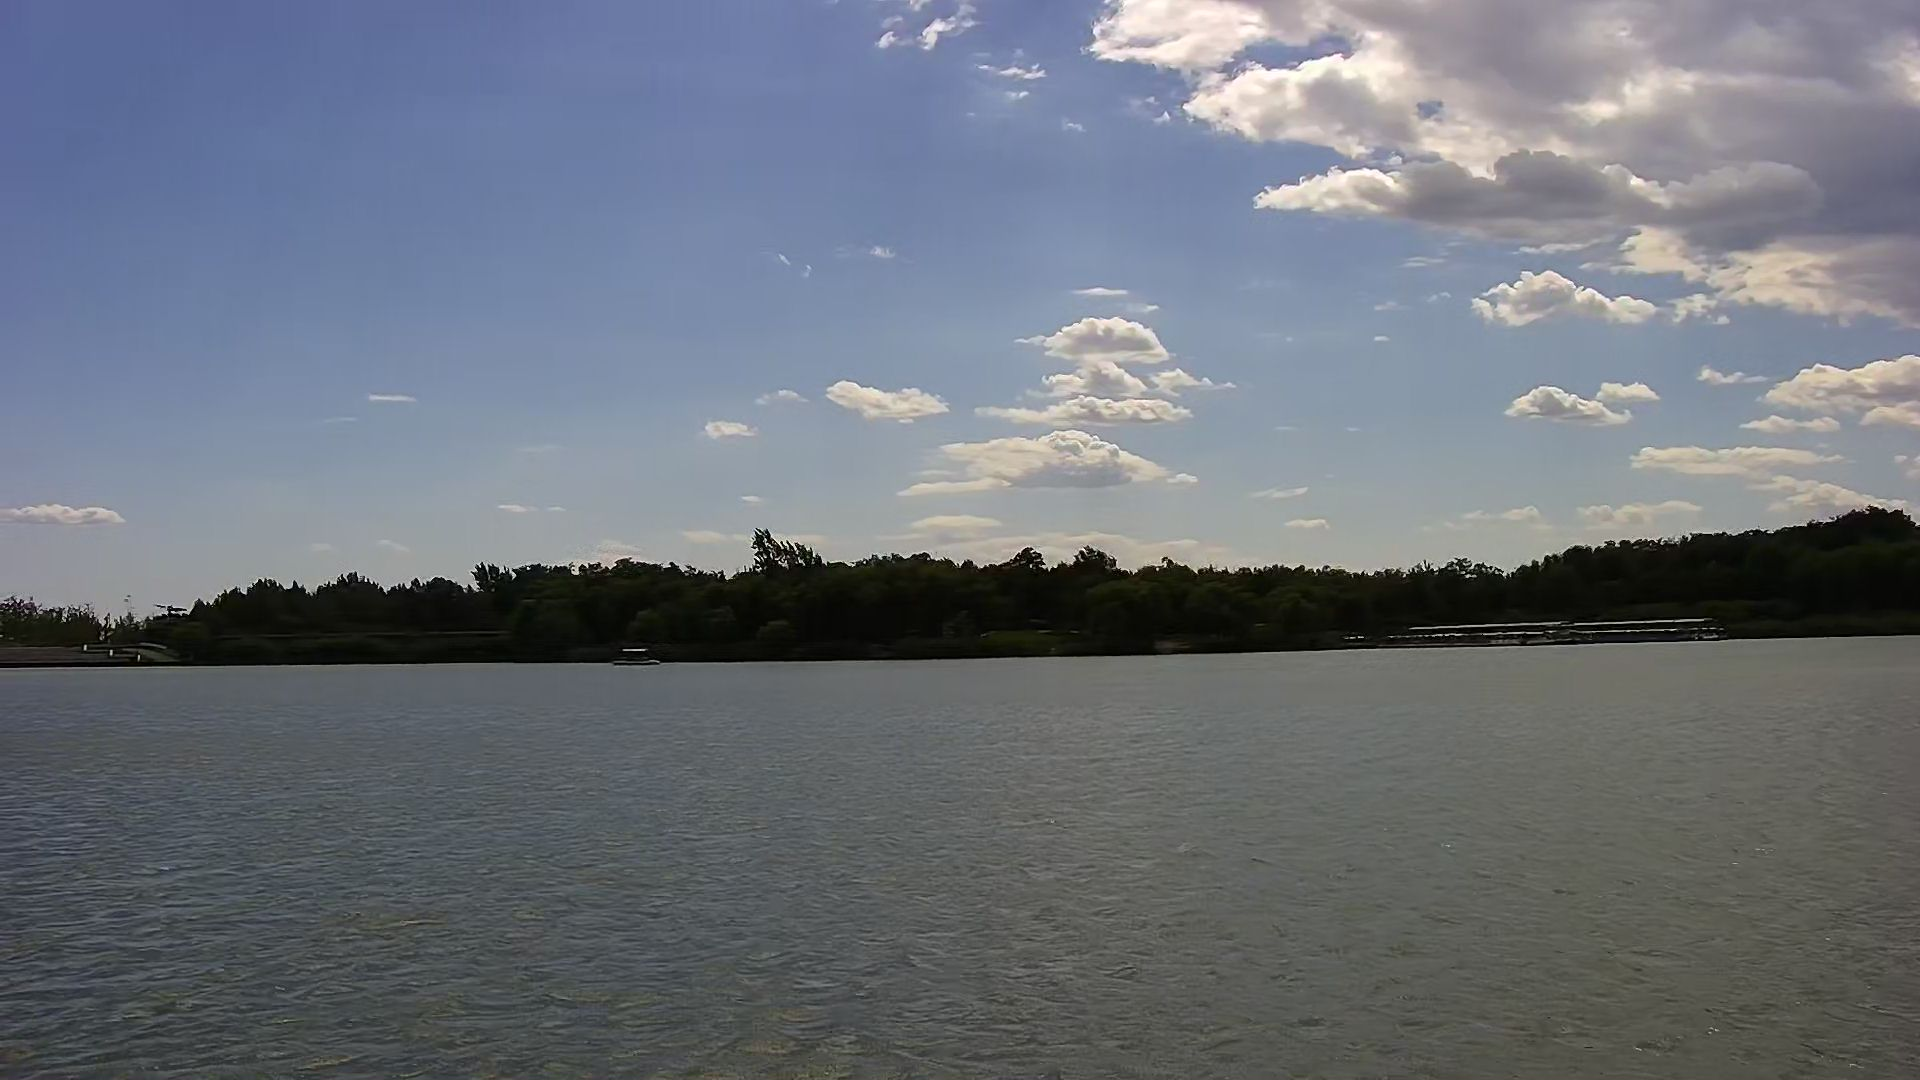boat: (612, 641, 663, 669)
harbor: (1346, 611, 1727, 646)
